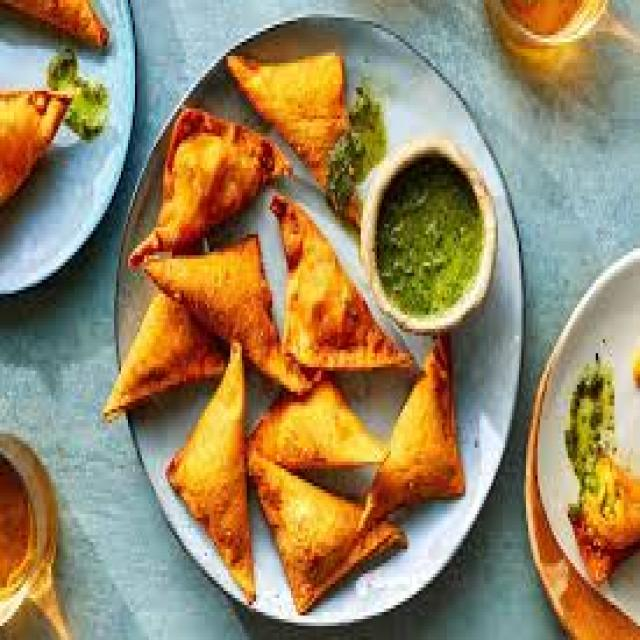SAMOSA: (147, 234, 307, 385), (272, 199, 410, 367), (130, 108, 286, 255), (256, 462, 398, 609), (170, 343, 251, 598), (370, 336, 463, 518), (228, 56, 344, 182), (105, 290, 223, 413), (251, 381, 384, 469)
